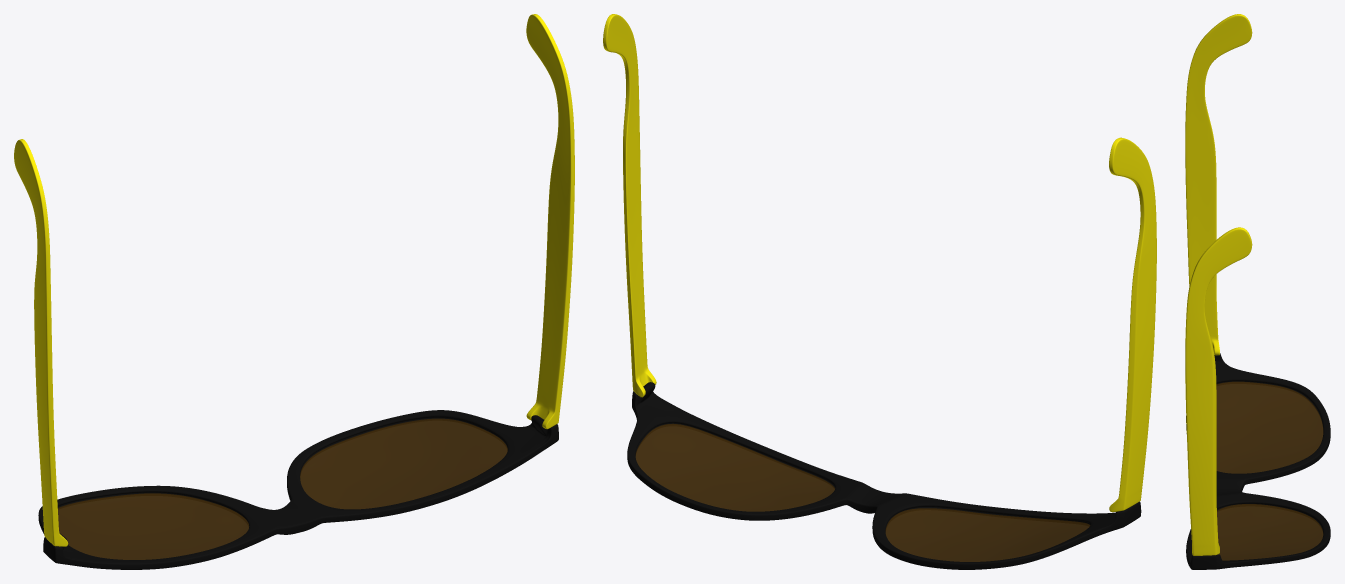
Rendered from sunglasses.glb.
The picture shows the model from 3 angles, left to right: view 1: azimuth 30°, elevation 25°; view 2: azimuth 150°, elevation 25°; view 3: azimuth 270°, elevation 25°; orthographic projection. The views are drawn at different scales.
Visible parts, largest first — view 1: sunglasses_body, sunglasses_lens; view 2: sunglasses_body, sunglasses_lens; view 3: sunglasses_body, sunglasses_lens.
Boxes of the visible parts, <box> form: sunglasses_body: <box>14,14,574,569</box>; sunglasses_lens: <box>57,418,507,559</box>; sunglasses_body: <box>603,14,1156,569</box>; sunglasses_lens: <box>635,423,1090,561</box>; sunglasses_body: <box>1185,14,1330,569</box>; sunglasses_lens: <box>1216,381,1323,560</box>.
Size of the model in its own units: 6.36 by 5.08 by 1.78.
Materials: 2 (1 with a texture image).
